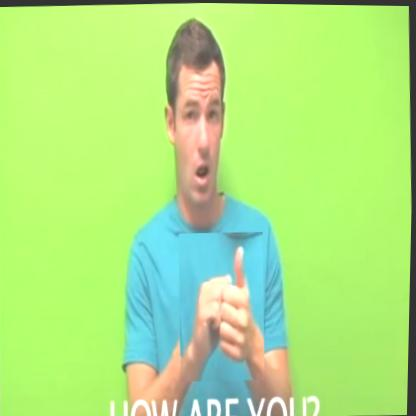HowAreYou: (177, 230, 269, 382)
